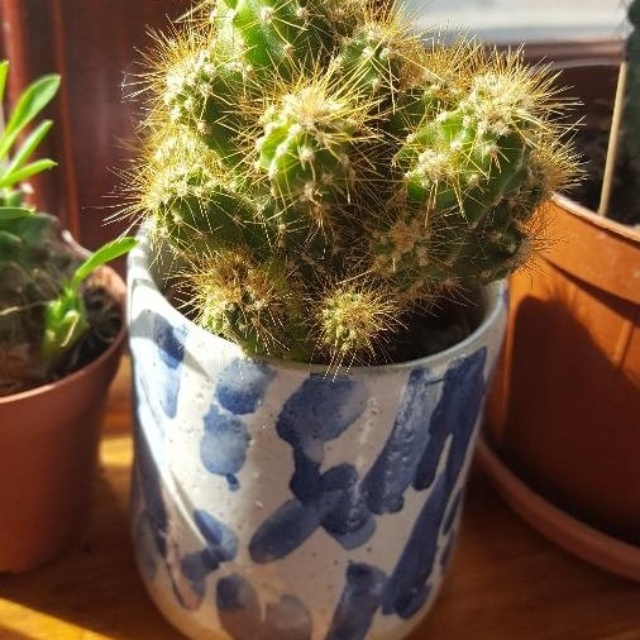obstacle: (101, 5, 549, 624)
